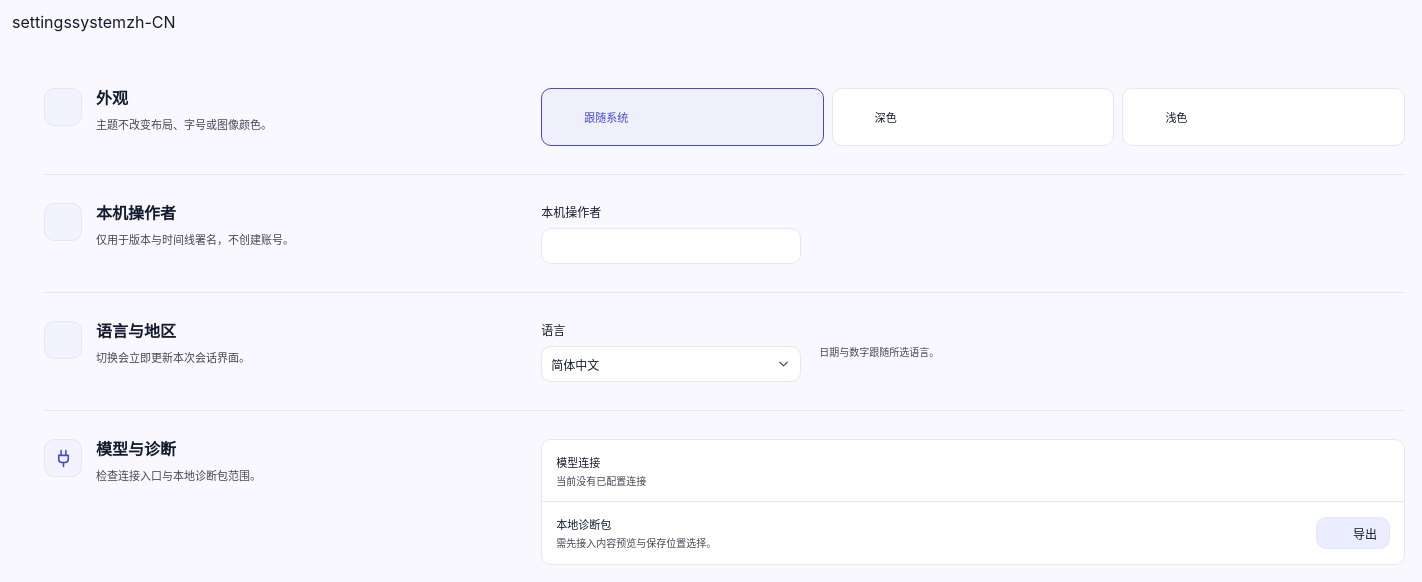
changes theme and locale through the settings controls
Click the radio button labelled "深色".
click(856, 117)  # box [832, 88, 1114, 146]
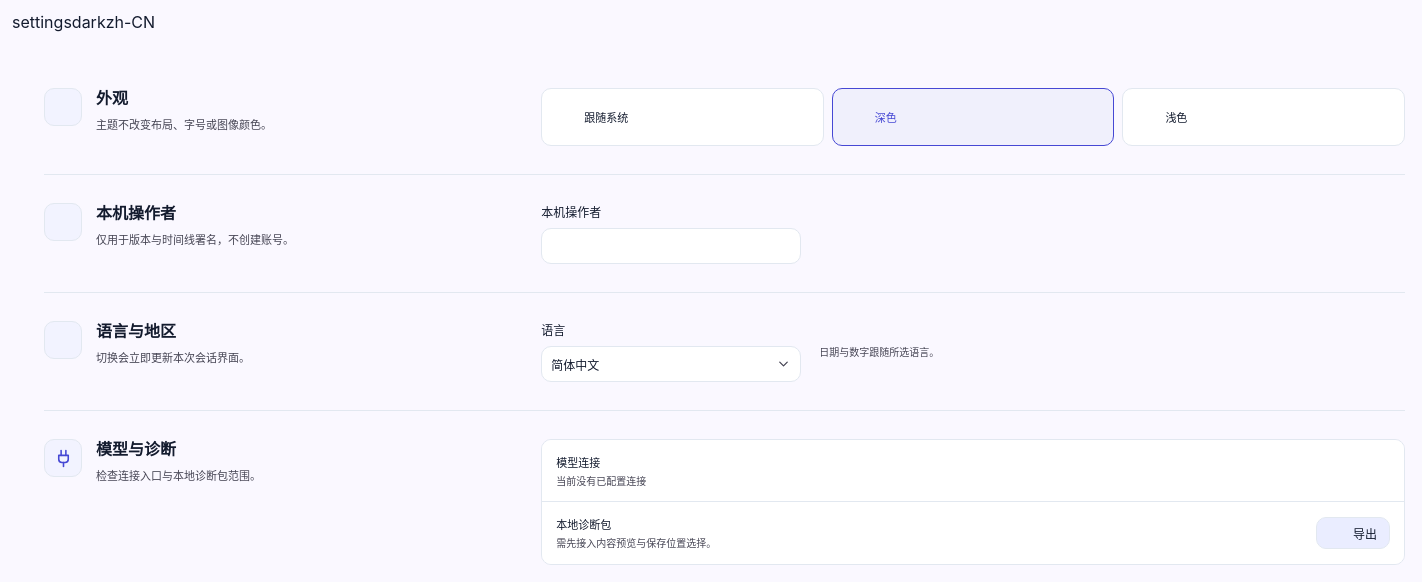
Check: the text named "current-theme" reads "dark", box [72, 12, 106, 32]
Replace the text in the dropdown labelled "语言" with "en" at (671, 364), box [541, 346, 801, 382]
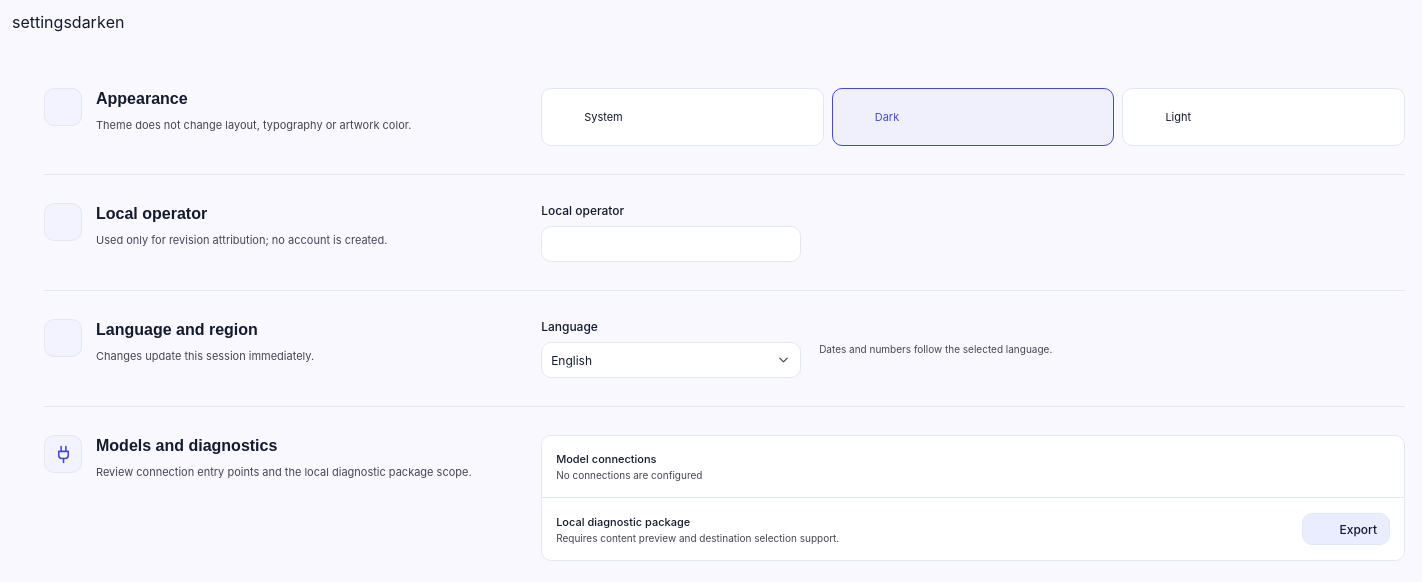
Check: the text named "current-locale" reads "en", box [106, 12, 124, 32]
